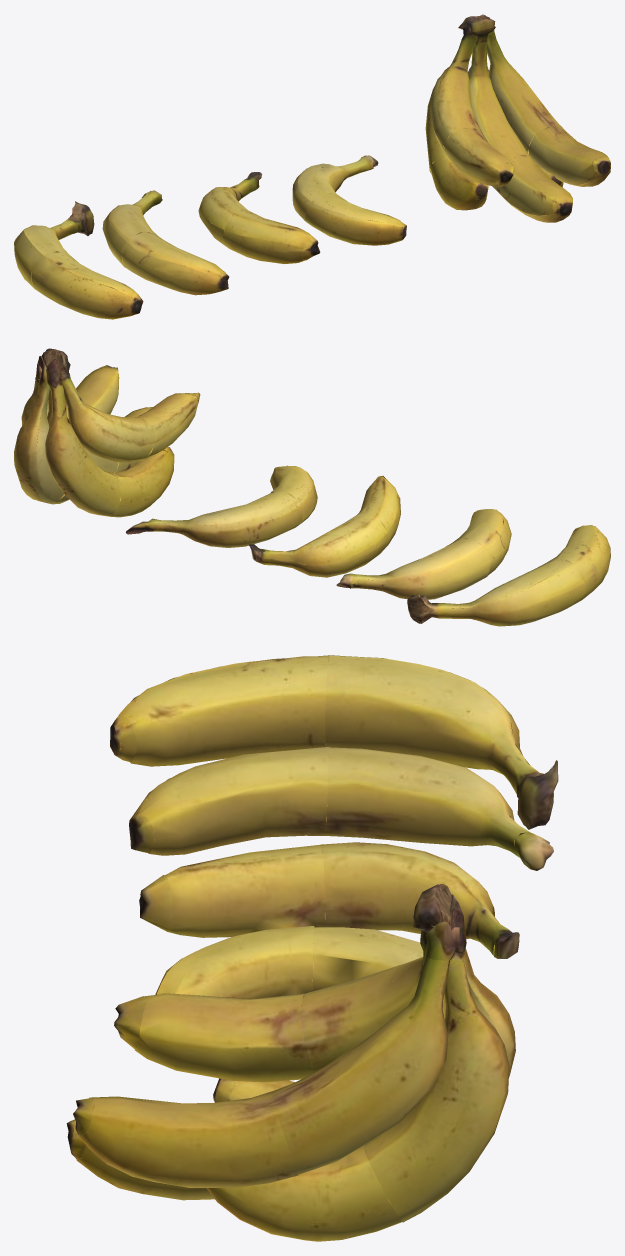
File: ph_bananas.glb
The picture shows the model from 3 angles, top to bottom: view 1: azimuth 30°, elevation 25°; view 2: azimuth 150°, elevation 25°; view 3: azimuth 270°, elevation 25°; orthographic projection. The views are drawn at different scales.
Parts seen in each view (by area): view 1: bananas_bunch; view 2: bananas_bunch; view 3: bananas_bunch.
Part boxes in pixels (bbox=[...]): bananas_bunch: bbox=[14, 14, 610, 319]; bananas_bunch: bbox=[14, 348, 610, 626]; bananas_bunch: bbox=[66, 655, 558, 1241].
Size of the model in its own units: 0.6002 by 0.1786 by 0.2439.
Materials: 1 (1 with a texture image).
